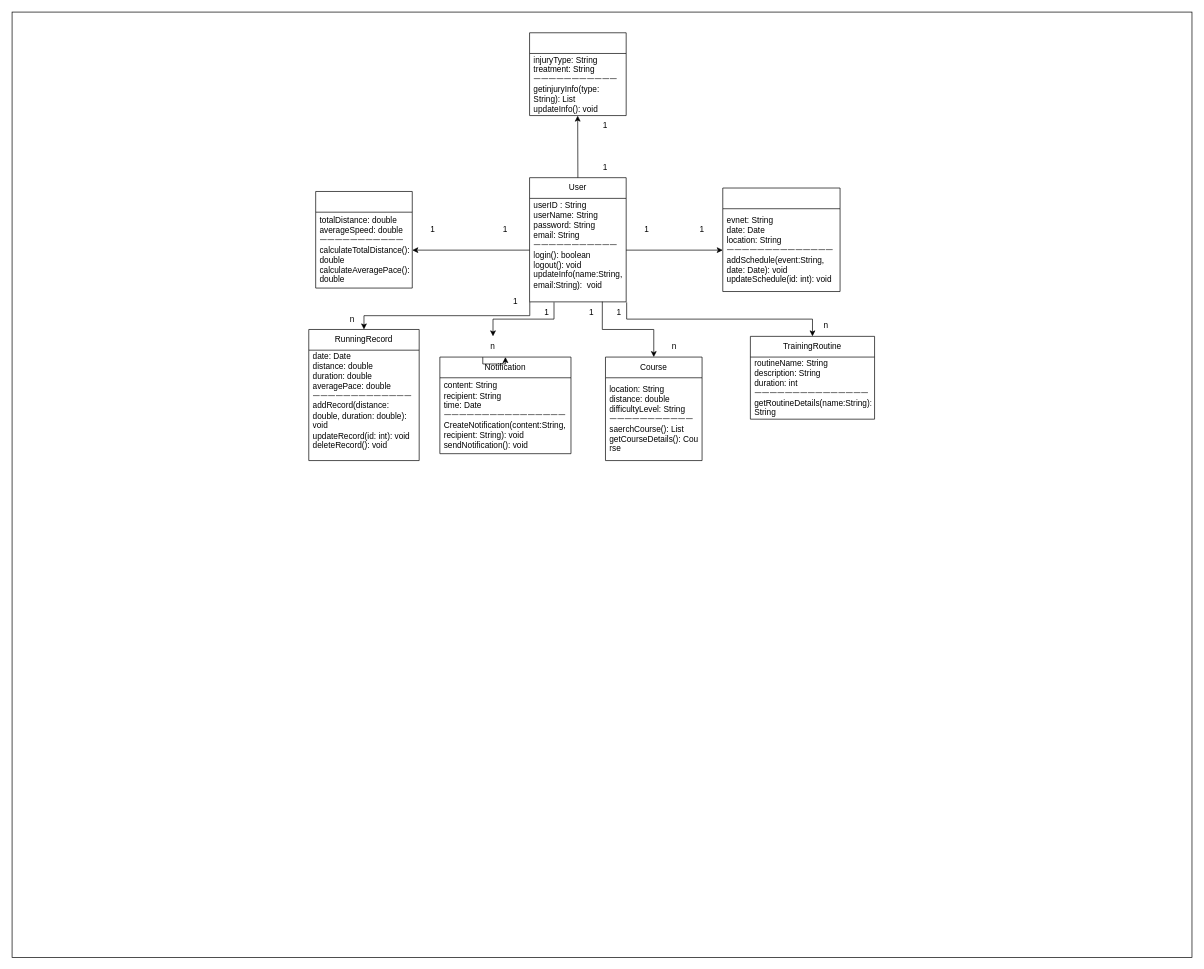
Some shapes in this 1204 by 969 pixel diagram are drawn without their labels. Each missing label, with the box of its shape:
HealthInfo: (529, 32, 626, 116)
MarathonSchedule: (722, 187, 840, 292)
Statistics: (315, 191, 412, 288)
